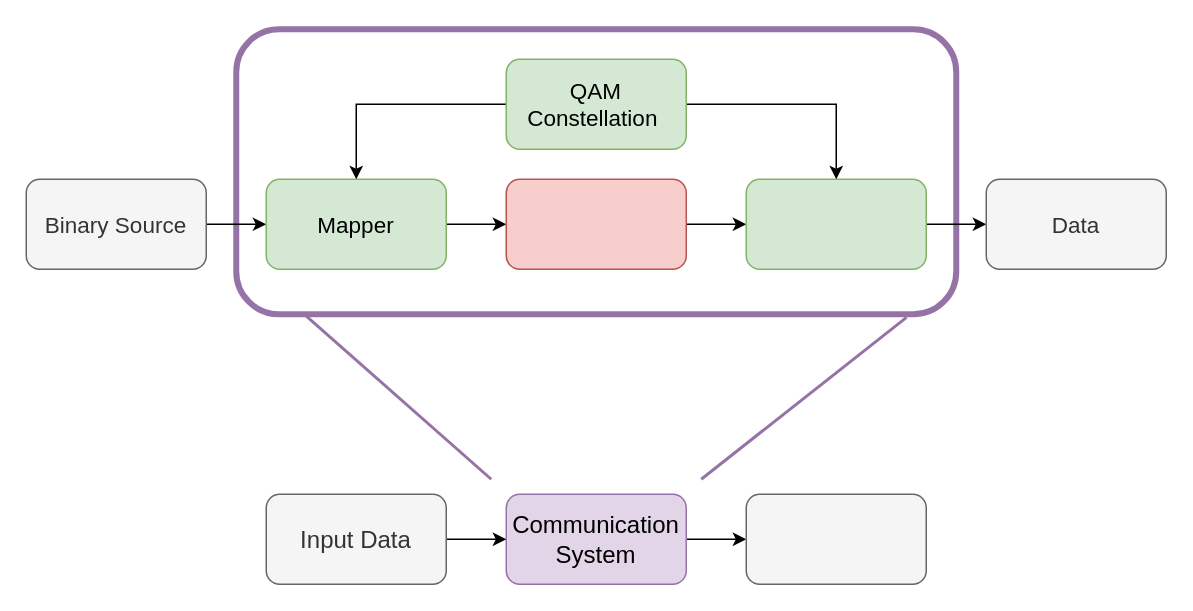
This 1193x611 diagram has some shape labels left out. Here are the shapes that lost their labels. From the top down, the centre of each, then its label:
At (595,223): "AWGN Channel".
At (835,223): "Demapper".
At (835,538): "Output Data".
